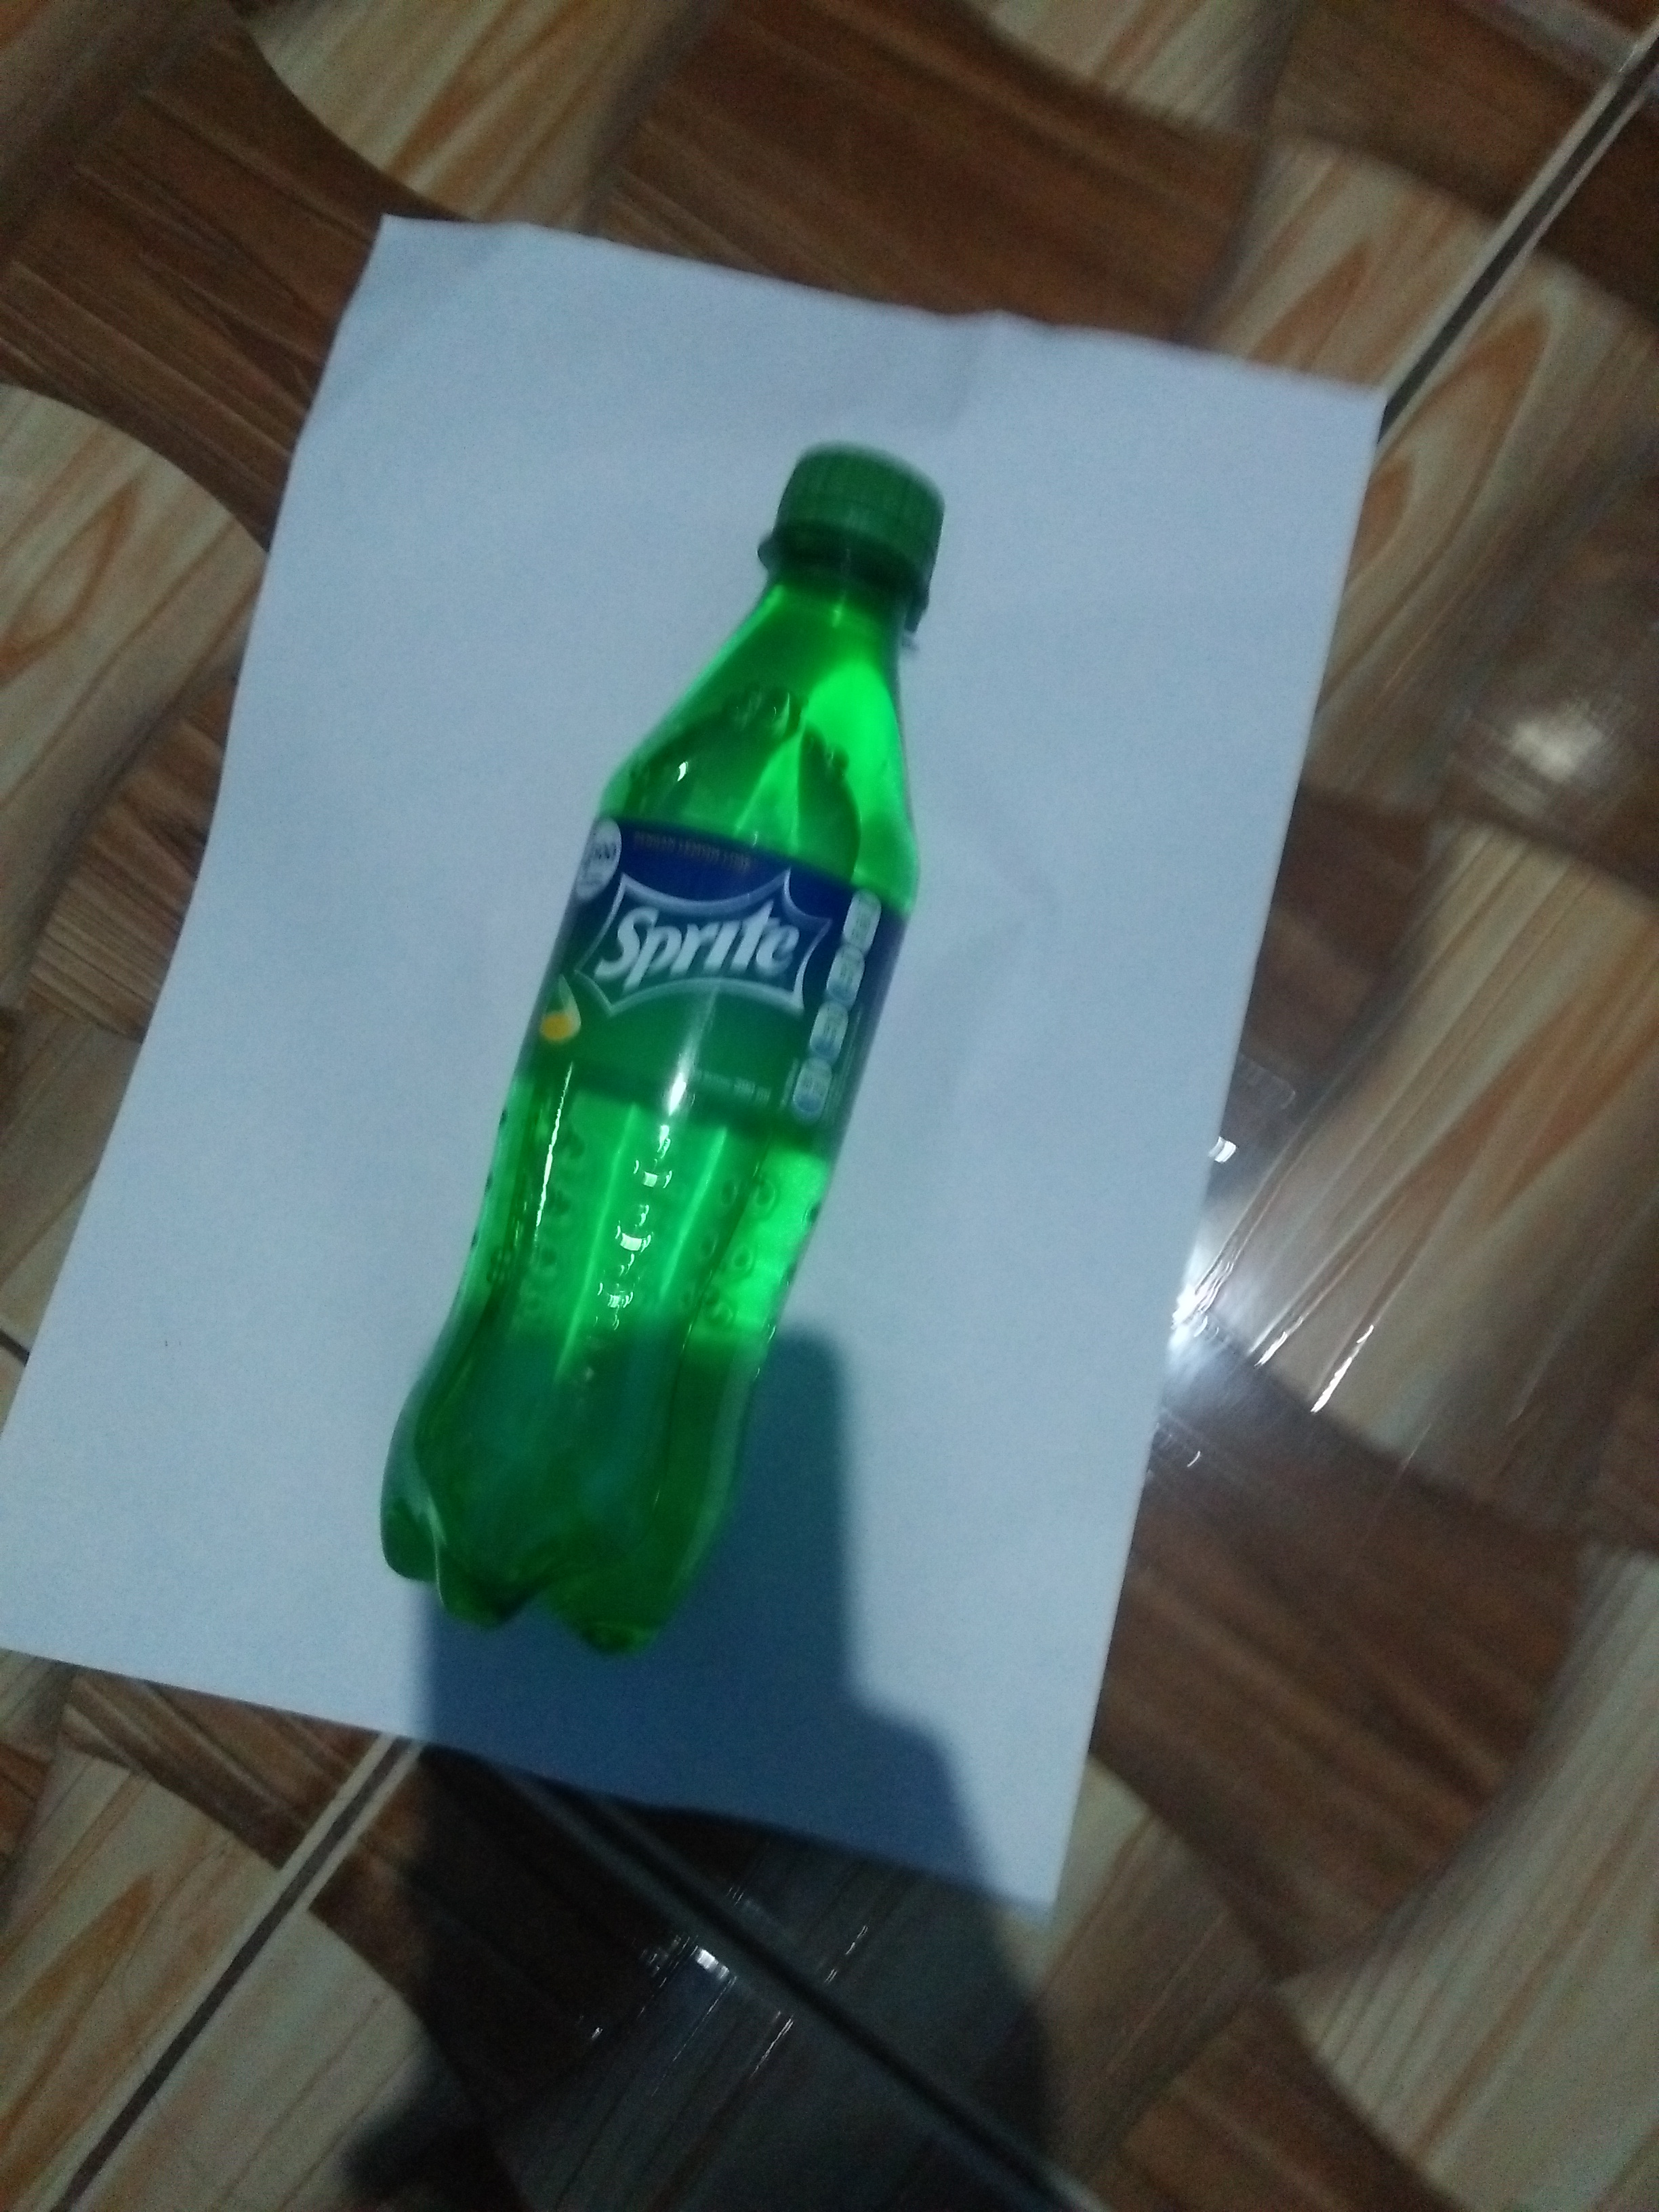Sprite: (366, 430, 972, 1705)
